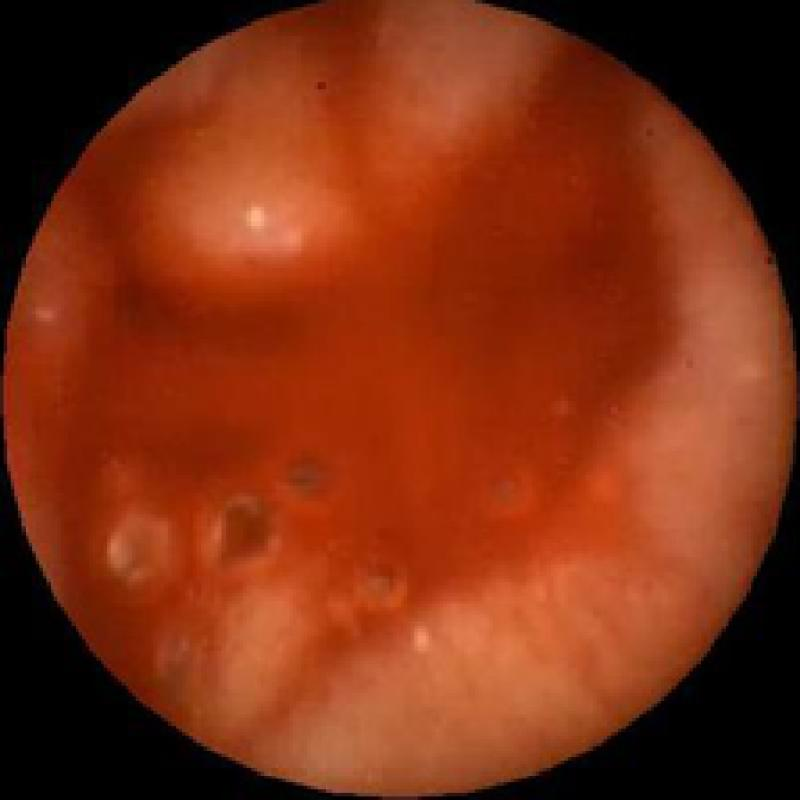bleeding: (118, 25, 600, 725)
